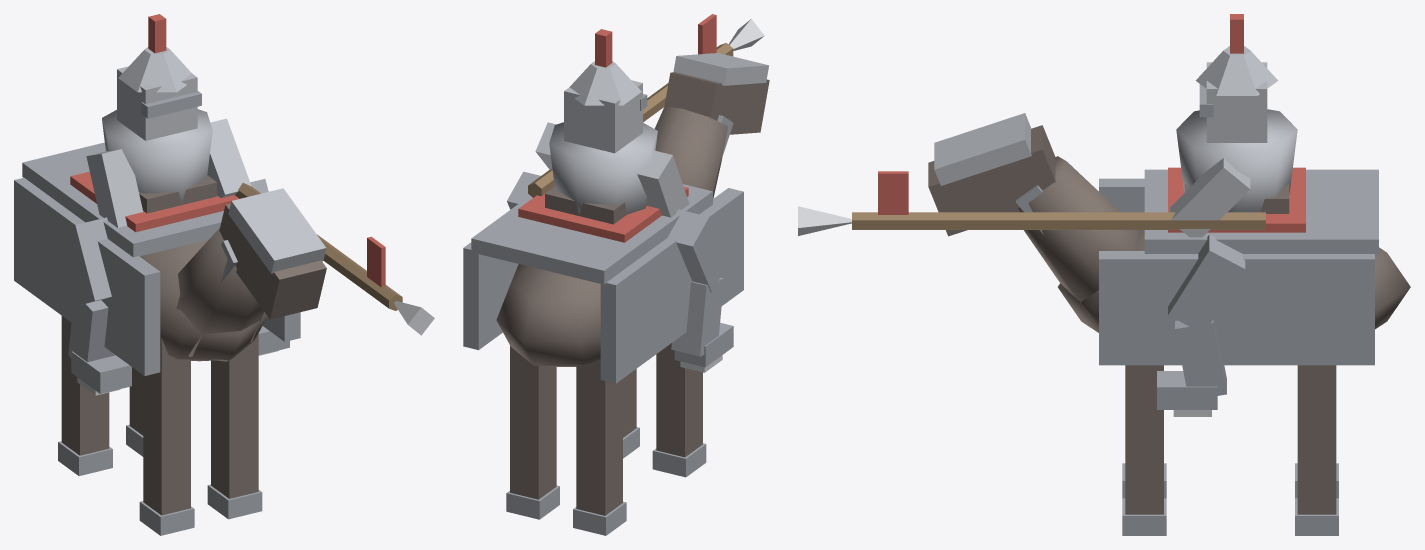
Rendered from troop-cataphract.glb.
3 renders of one model, left to right at view 1: azimuth 30°, elevation 25°; view 2: azimuth 150°, elevation 25°; view 3: azimuth 270°, elevation 25°, orthographic. The views are drawn at different scales.
Visible parts, largest first — view 1: barding_l, leg_fl, leg_fr, barding_top, rider, neck, chanfron, body, head, leg_bl, rider_head, rider_thigh_l (+18 smaller); view 2: barding_l, barding_top, body, leg_bl, leg_br, rider, leg_fl, neck, head, barding_r, rider_head, rider_thigh_l (+17 smaller); view 3: barding_r, barding_top, neck, lance, rider, leg_br, leg_fr, head, chanfron, rider_thigh_r, rider_arm_r, rider_head (+10 smaller).
Boxes of the visible parts, bbox=[...] form: barding_l: bbox=[14, 177, 160, 375]; leg_fl: bbox=[143, 338, 190, 515]; leg_fr: bbox=[211, 333, 258, 498]; barding_top: bbox=[22, 142, 223, 257]; rider: bbox=[102, 109, 212, 203]; neck: bbox=[176, 228, 264, 361]; chanfron: bbox=[228, 188, 326, 273]; body: bbox=[140, 239, 267, 361]; head: bbox=[219, 203, 326, 319]; leg_bl: bbox=[61, 316, 109, 455]; rider_head: bbox=[117, 66, 197, 140]; rider_thigh_l: bbox=[58, 217, 111, 305]; barding_l: bbox=[600, 188, 743, 383]; barding_top: bbox=[471, 184, 712, 284]; body: bbox=[496, 264, 600, 366]; leg_bl: bbox=[576, 359, 622, 515]; leg_br: bbox=[510, 346, 556, 499]; rider: bbox=[549, 122, 657, 214]; leg_fl: bbox=[656, 343, 702, 457]; neck: bbox=[654, 106, 727, 198]; head: bbox=[664, 72, 769, 134]; barding_r: bbox=[463, 242, 518, 350]; rider_head: bbox=[564, 80, 642, 153]; rider_thigh_l: bbox=[667, 209, 728, 292]; barding_r: bbox=[1099, 251, 1374, 365]; barding_top: bbox=[1144, 169, 1378, 254]; neck: bbox=[1018, 156, 1139, 328]; lance: bbox=[852, 212, 1265, 229]; rider: bbox=[1176, 109, 1297, 212]; leg_br: bbox=[1297, 365, 1336, 514]; leg_fr: bbox=[1125, 365, 1163, 514]; head: bbox=[928, 125, 1055, 236]; chanfron: bbox=[934, 113, 1031, 185]; rider_thigh_r: bbox=[1168, 234, 1245, 333]; rider_arm_r: bbox=[1170, 158, 1250, 237]; rider_head: bbox=[1206, 62, 1267, 142].
Size of the model in its own units: 0.168 by 0.394 by 0.444.
